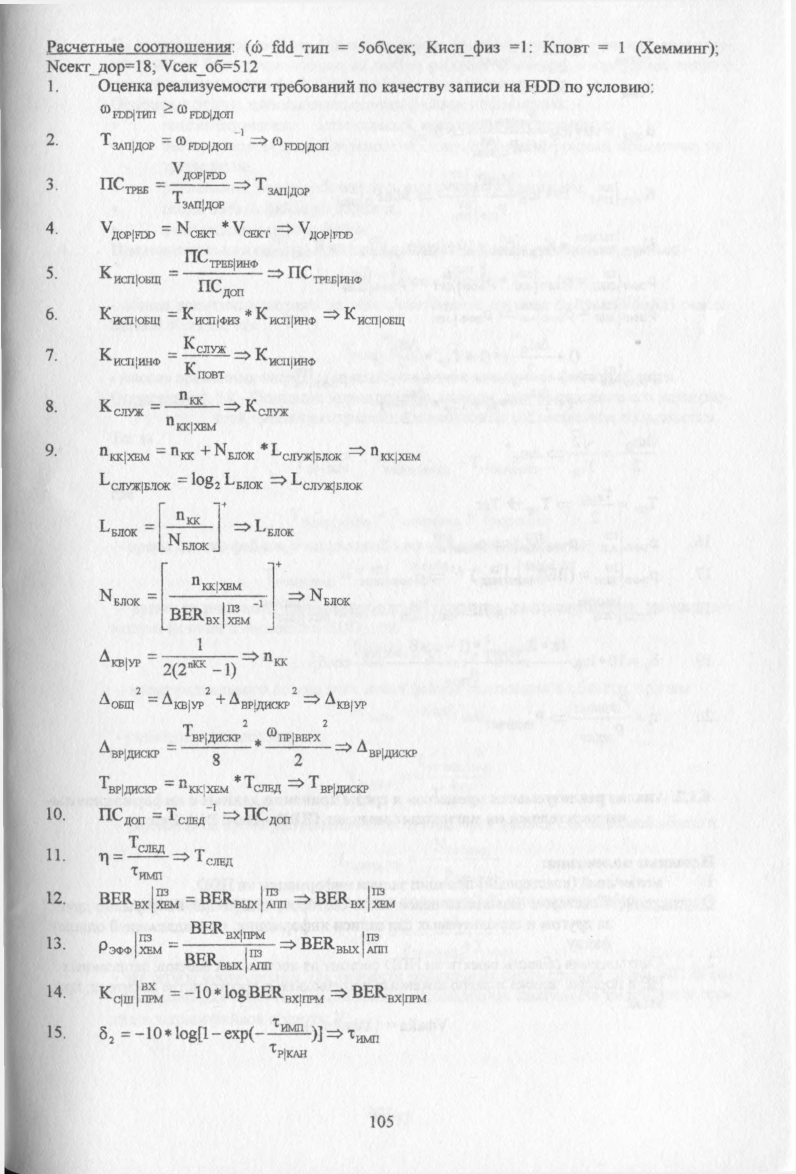BER.вх.пз.хем: (97, 883, 175, 912), (167, 603, 252, 625)
BER.вх.прм: (249, 979, 321, 1005), (182, 921, 268, 942)
BER.вых.пз.апп: (196, 884, 286, 913), (183, 946, 273, 972)
K.исп.инф: (96, 340, 165, 369), (255, 305, 321, 329)
K.исп.общ: (96, 259, 163, 287), (97, 303, 163, 330)
K.исп.физ: (179, 306, 243, 330)
K.повт: (178, 359, 227, 380)
K.с.ш.вх.прм: (97, 975, 165, 1007)
K.служ: (93, 393, 145, 421), (181, 335, 232, 355)
L.блок: (99, 512, 144, 543), (221, 473, 264, 491)
L.служ.блок: (269, 437, 344, 463), (90, 471, 172, 493)
N.блок: (95, 584, 144, 610), (212, 438, 256, 460), (167, 534, 210, 551)
N.сект: (175, 218, 219, 242)
T.вр.дискр: (96, 771, 156, 797), (179, 724, 246, 745)
T.зап.дор: (100, 128, 158, 156), (166, 188, 228, 210)
T.след: (240, 768, 282, 799), (164, 806, 207, 827), (126, 837, 170, 853)
V.дор.FDD: (99, 218, 155, 245), (166, 162, 228, 182)
V.сект: (231, 219, 272, 242)
group: (91, 560, 282, 634), (88, 1012, 326, 1065), (88, 718, 329, 767), (88, 919, 277, 974), (92, 248, 269, 299), (88, 159, 233, 213), (87, 436, 348, 465), (94, 500, 229, 555), (86, 682, 300, 716), (94, 977, 325, 1008), (92, 334, 238, 381), (89, 636, 241, 681), (93, 882, 291, 915), (88, 388, 221, 434), (91, 770, 287, 800), (93, 305, 325, 329), (93, 217, 275, 243), (95, 127, 242, 156), (86, 470, 269, 493), (92, 833, 176, 880), (92, 802, 219, 830)
n.кк: (171, 506, 210, 527), (168, 440, 196, 463), (172, 391, 209, 405), (182, 658, 207, 671)
n.кк.хем: (90, 438, 152, 464), (181, 571, 245, 594), (175, 771, 230, 796), (161, 409, 216, 433)
Δ.вр.дискр: (228, 685, 289, 712), (95, 737, 160, 760)
Δ.кв.ур: (93, 646, 145, 676), (157, 689, 204, 714)
Δ.общ: (91, 686, 135, 713)
δ.2: (95, 1022, 116, 1047)
η: (98, 850, 112, 867)
ρ.эфф.пз.хем: (92, 927, 163, 959)
τ.имп: (130, 860, 164, 879), (271, 1016, 306, 1033)
τ.р.кан: (266, 1040, 309, 1061)
ω.FDD.доп: (171, 129, 238, 157)
ω.пр.верх: (262, 727, 323, 745)
ПС.доп: (195, 276, 255, 296), (96, 804, 146, 827)
ПС.треб: (92, 170, 153, 201)
ПС.треб.инф: (177, 251, 267, 271)
